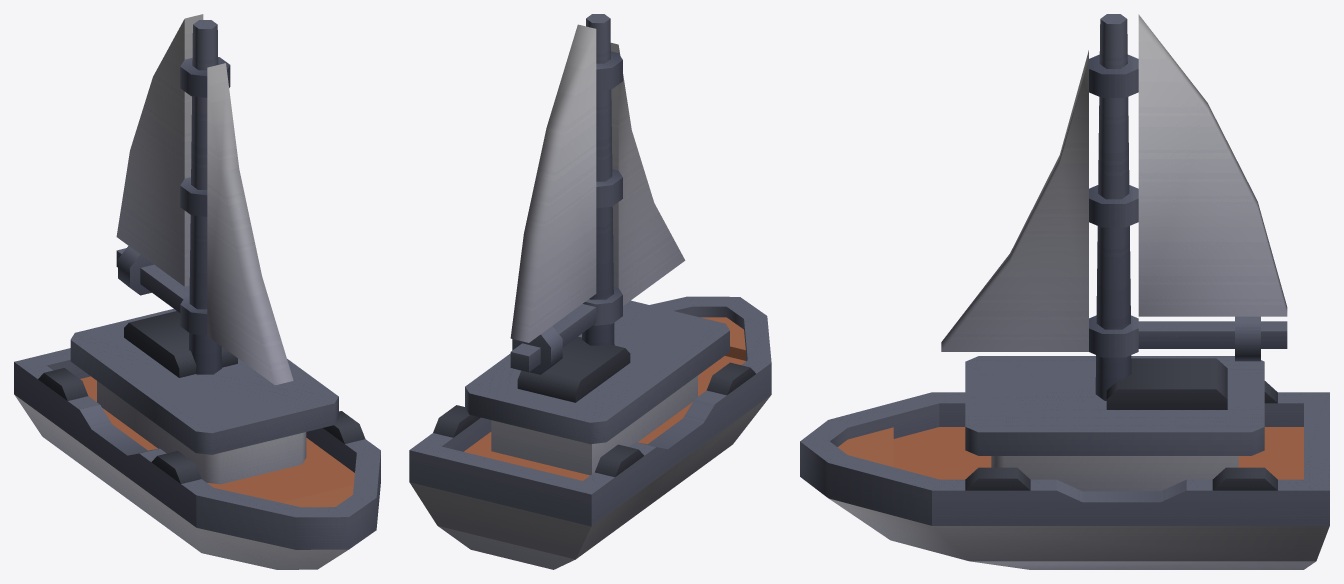
Rendered from boat_sail_b.glb.
3 views of the same model, side by side, from view 1: azimuth 30°, elevation 25°; view 2: azimuth 150°, elevation 25°; view 3: azimuth 270°, elevation 25° (orthographic). The views are drawn at different scales.
Parts seen in each view (by area): view 1: boat-sail-b, sail; view 2: boat-sail-b, sail; view 3: boat-sail-b, sail.
Boxes of the visible parts, x1,y1,x2,y2 form: boat-sail-b: (14, 308, 380, 569); sail: (116, 14, 293, 385); boat-sail-b: (409, 296, 771, 569); sail: (510, 14, 685, 374); boat-sail-b: (800, 356, 1329, 569); sail: (941, 14, 1287, 400).
Size of the model in its own units: 1.78 by 4.48 by 4.07.
Materials: 1 (1 with a texture image).
